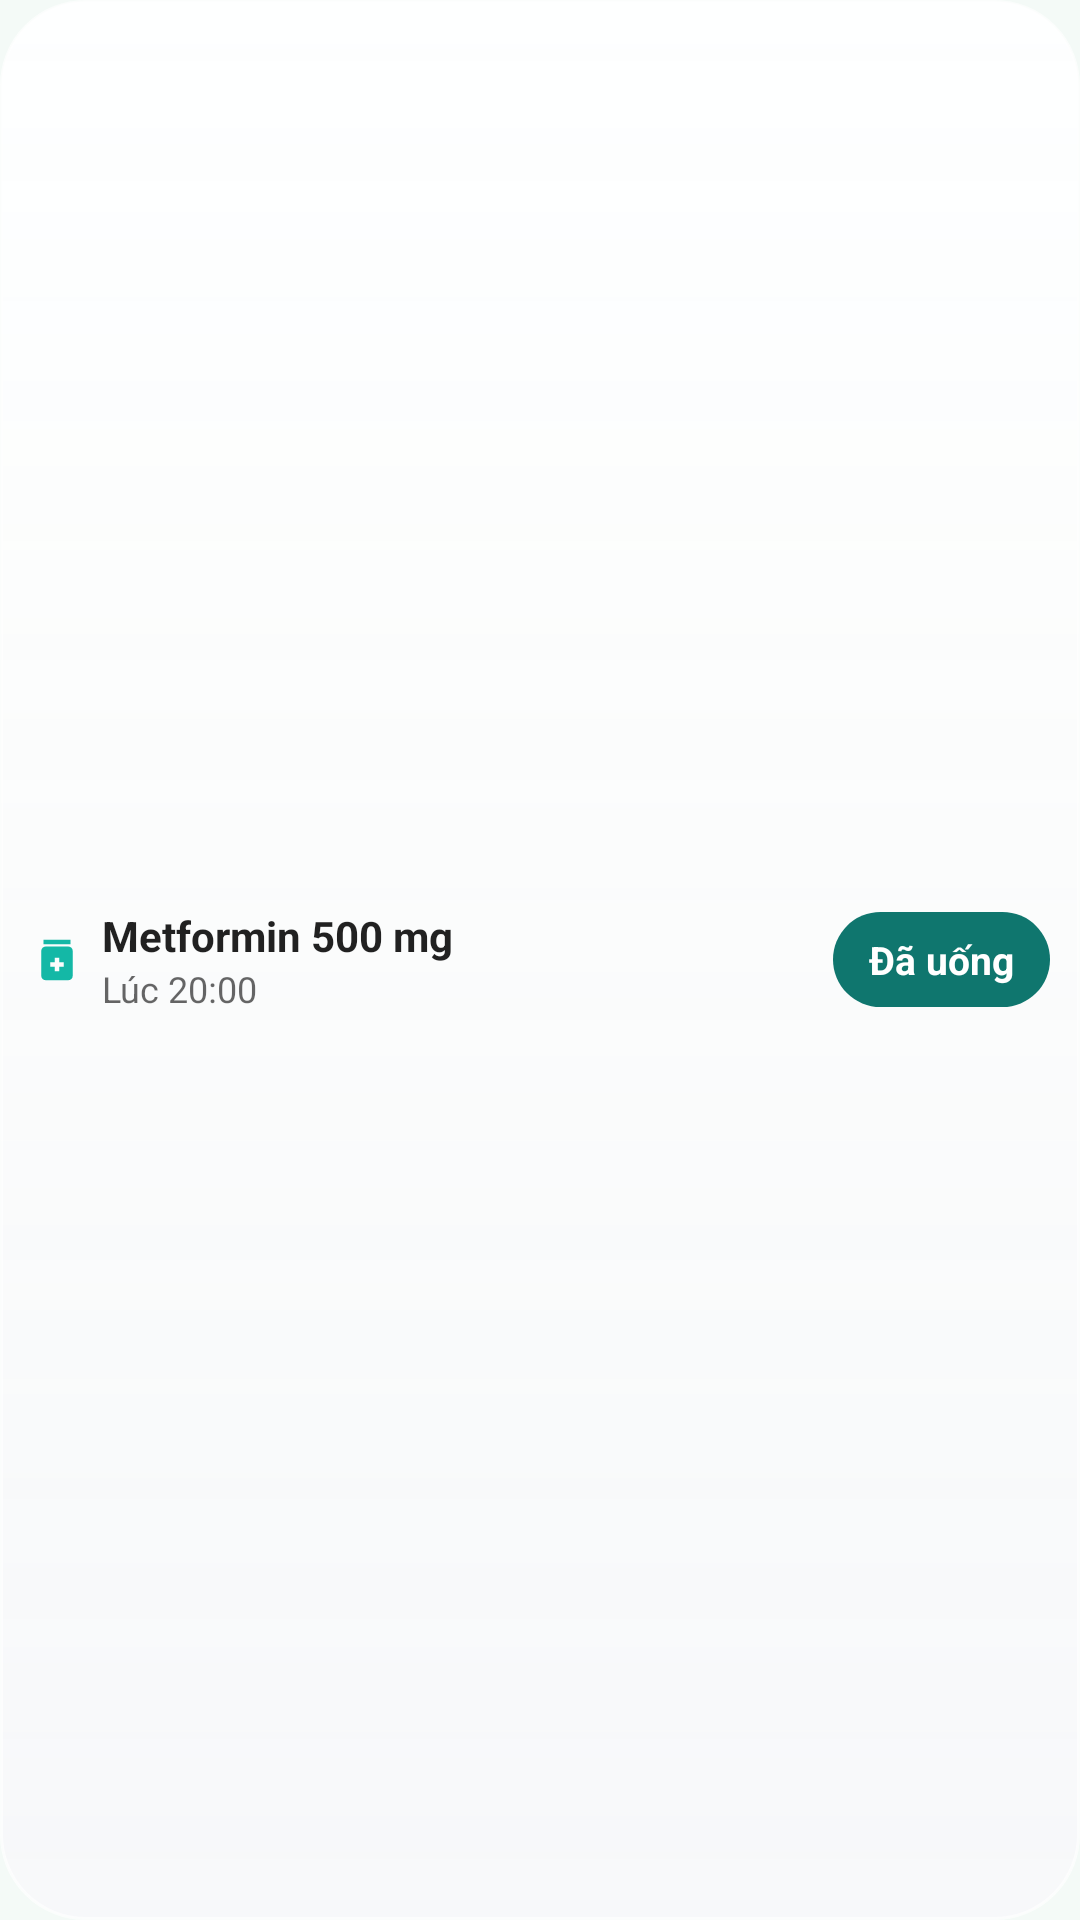

Locate icon controls on the screen. Image size 1080*1920, boxes as region(x1, y1, x2, y2).
widget pill: region(41, 939, 73, 981)
